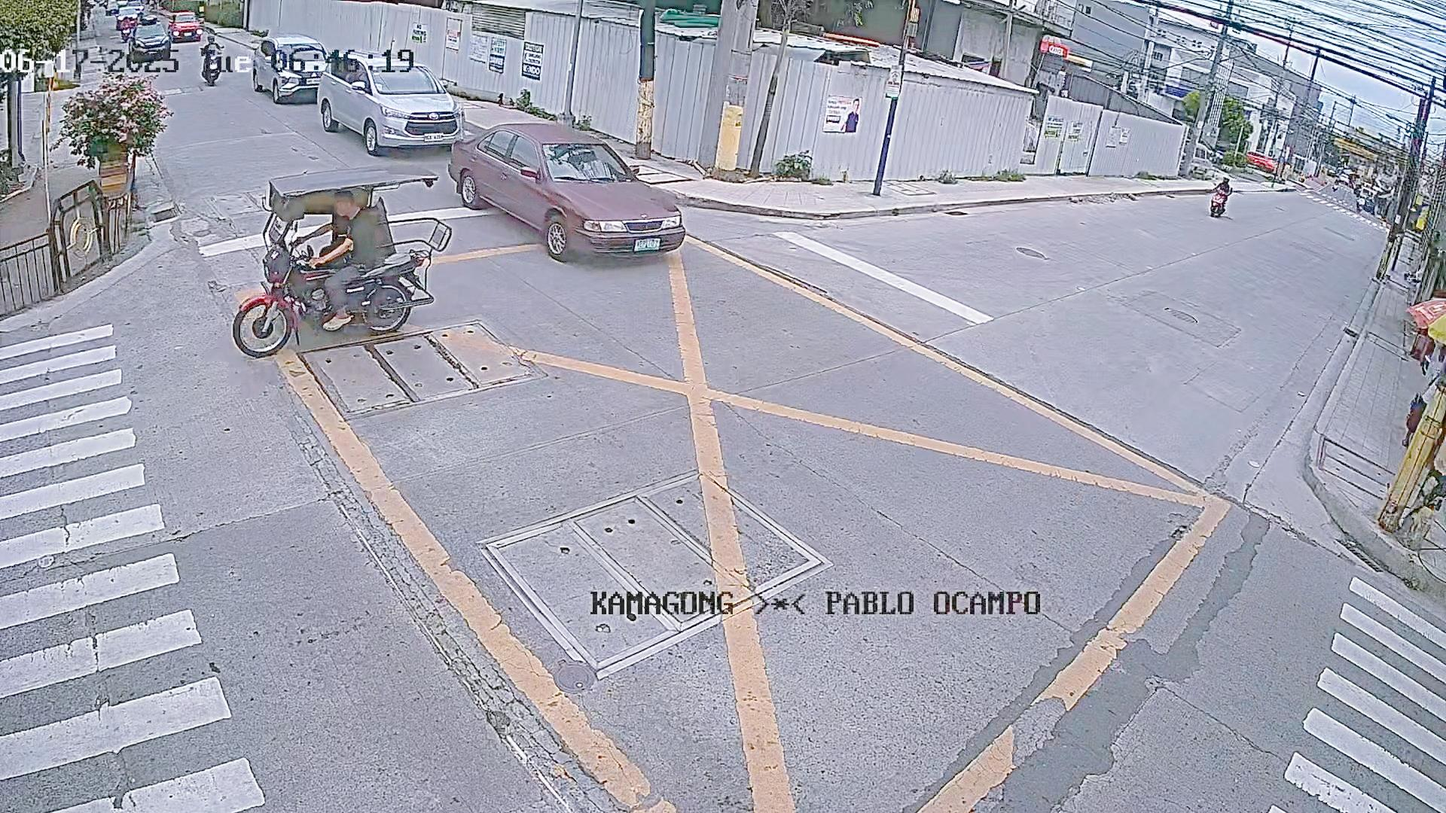Car: (447, 116, 687, 274), (309, 57, 488, 163), (251, 35, 325, 113)
Motor: (215, 262, 429, 344)
